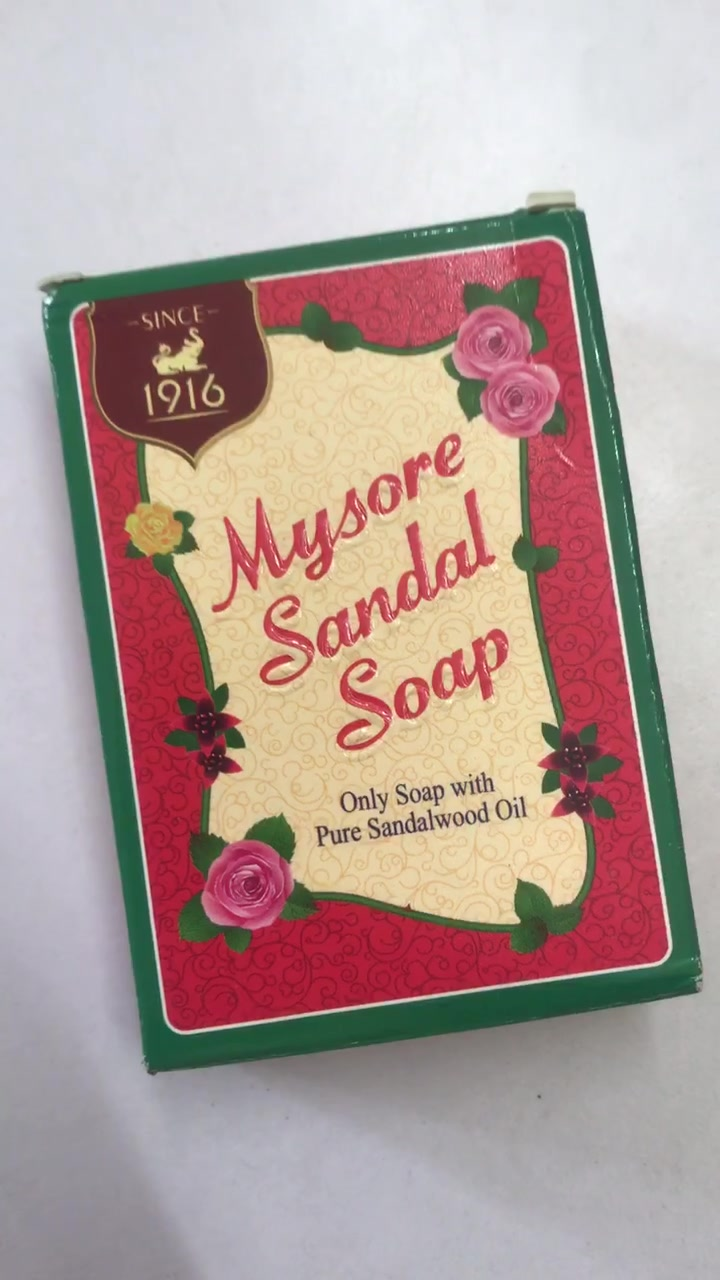mysore sandal soap: (39, 209, 699, 1071)
